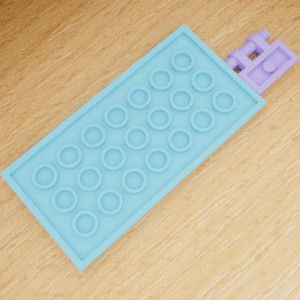lego: (0, 23, 267, 271), (221, 29, 299, 99)
